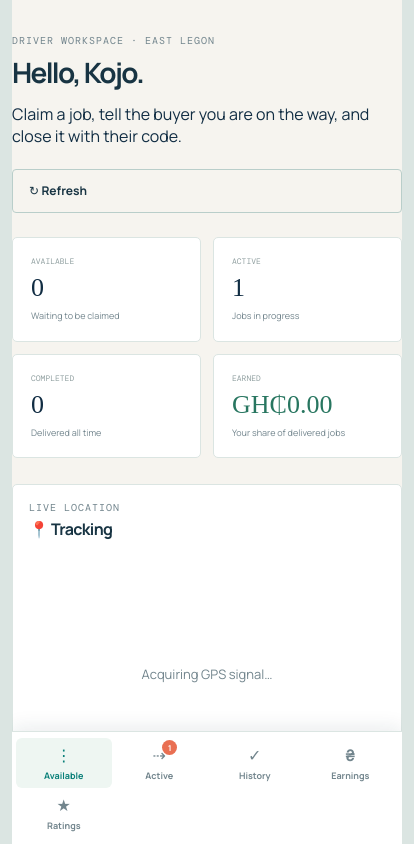
Test: claiming and progressing a job › shows advance button for Assigned jobs in Active tab
The image size is (414, 844).
Click the button "⇢ Active 1": (159, 763) [112,738,207,788]
(page scrolled)
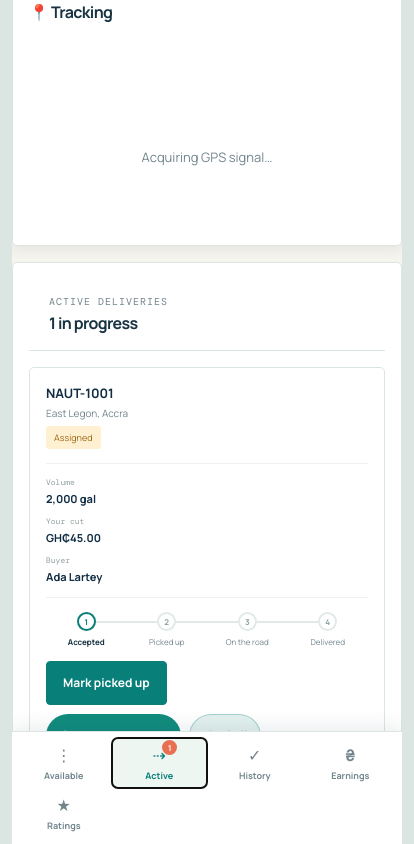
Result: the button "Mark picked up" is shown at [46,661,167,705]
